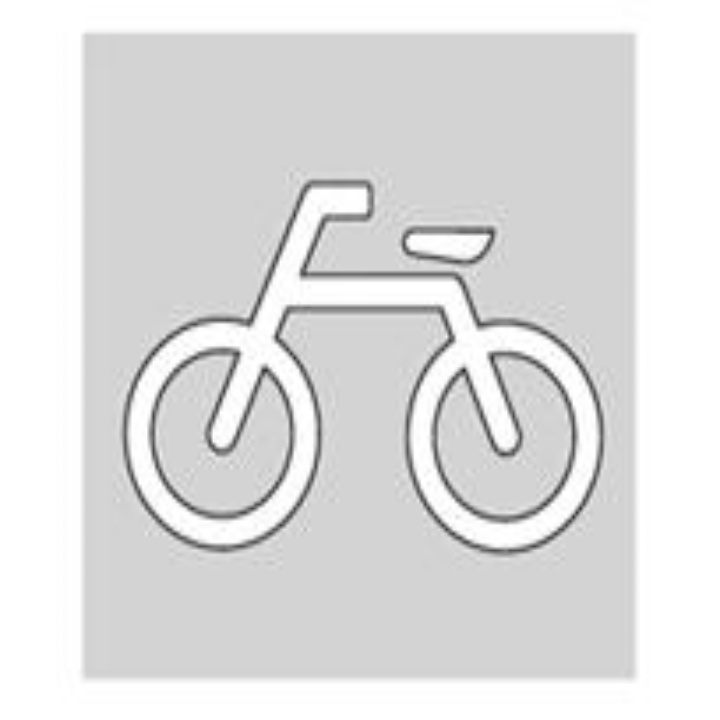bicycle: (114, 143, 639, 579)
